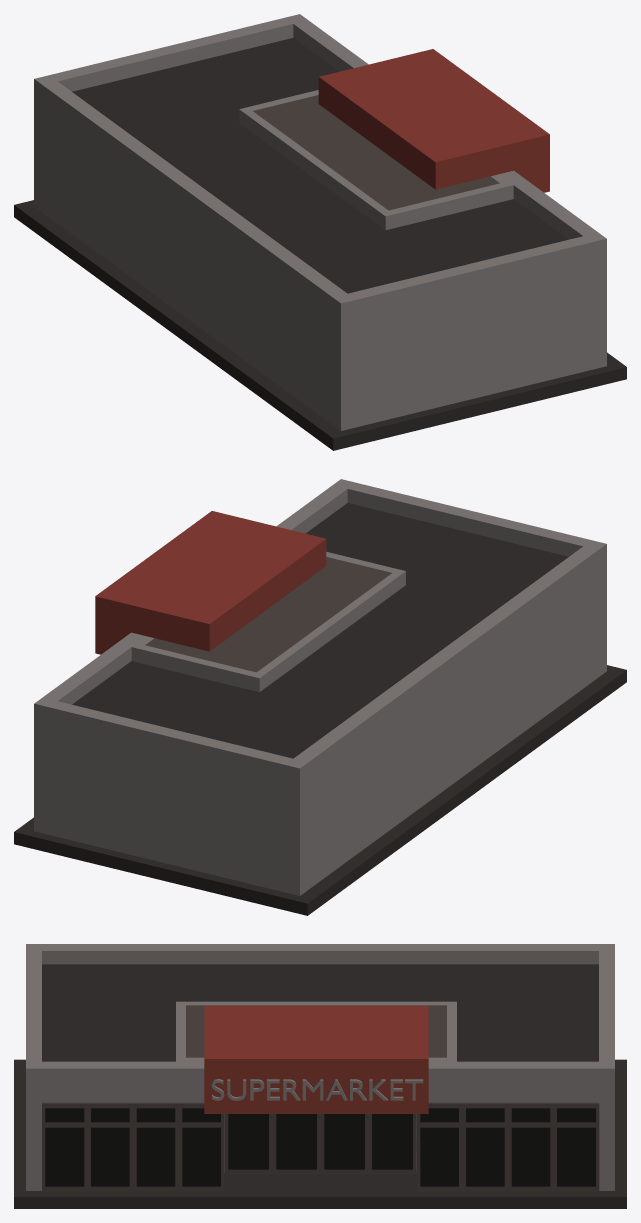
File: SuperMarket.fbx
The picture shows the model from 3 angles, top to bottom: view 1: azimuth 30°, elevation 25°; view 2: azimuth 150°, elevation 25°; view 3: azimuth 270°, elevation 25°; orthographic projection. The views are drawn at different scales.
Visible parts, largest first — view 1: Text.004; view 2: Text.004; view 3: Text.004.
Boxes of the visible parts, x1,y1,x2,y2 form: Text.004: (14,14,626,450); Text.004: (14,479,626,915); Text.004: (14,944,626,1208).
Bounding box in the file's own units: 479 × 240 × 832.
